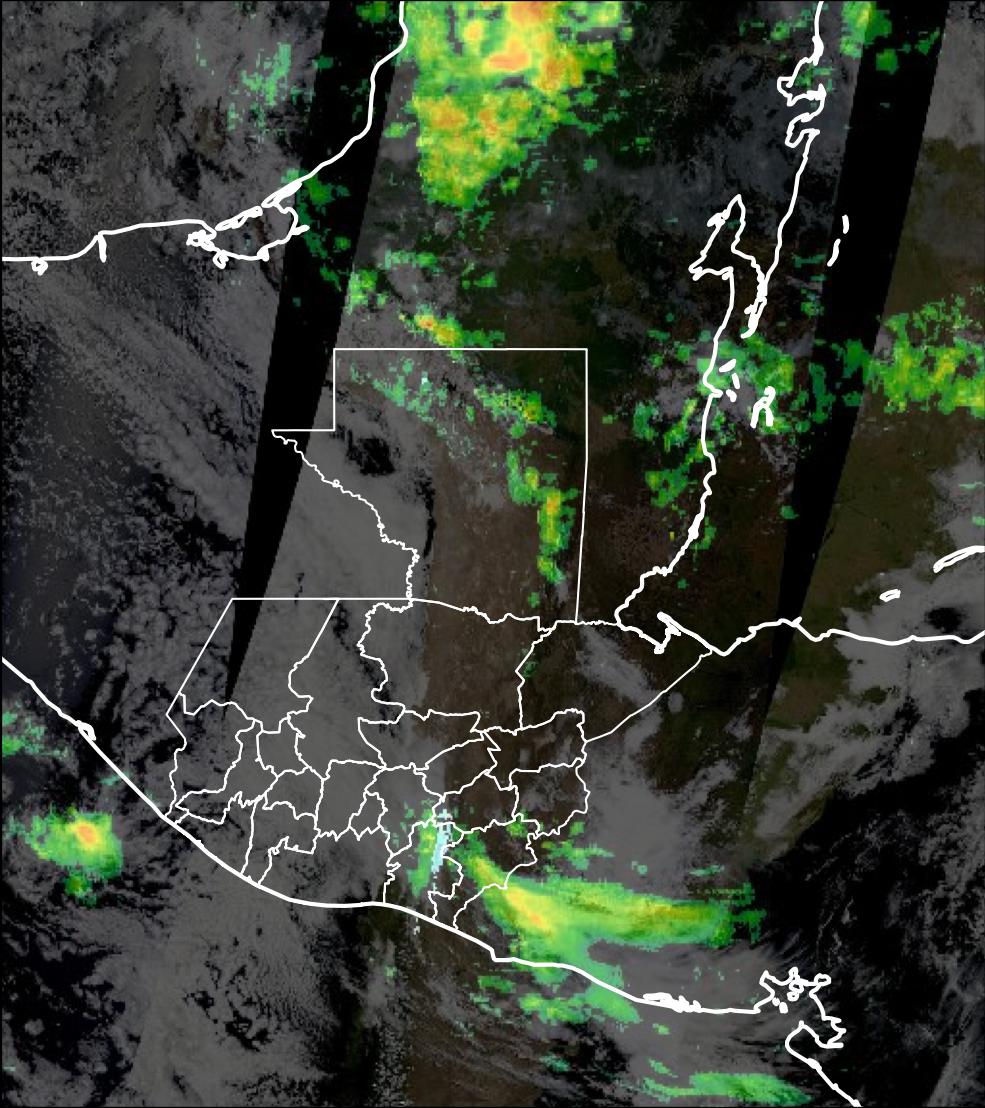precipitacion: (56, 803, 116, 870)
